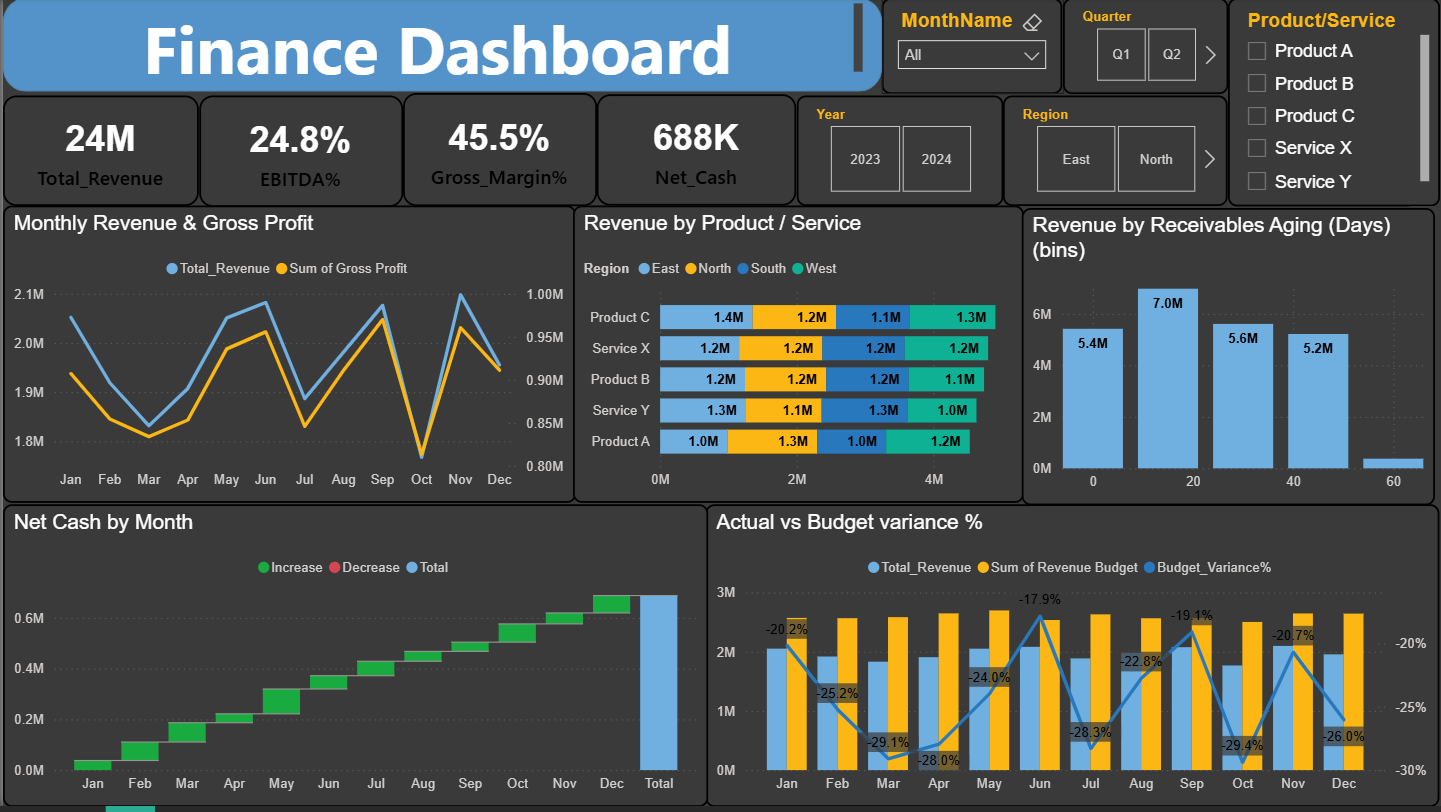

The page's visual inventory and layout, read from the dashboard file:
{"tool":"powerbi","page":{"name":"Overview","canvas":[1280,720],"ordinal":0},"visuals":[{"type":"lineChart","title":"Monthly Revenue & Gross Profit ","fields":{"Category":["Financial Data.Year","Financial Data.Quarter","Financial Data.MonthName"],"Y":["Financial Data.Total_Revenue"],"Y2":["Sum(Financial Data.Gross Profit)"]},"box":[1.2,185.3,496.9,265],"z":0},{"type":"card","fields":{"Values":["Financial Data.EBITDA%"]},"box":[174.2,87.1,181.6,99.4],"z":1000},{"type":"card","fields":{"Values":["Financial Data.Total_Revenue"]},"box":[0,87.1,174.2,98.2],"z":2000},{"type":"card","fields":{"Values":["Financial Data.Net_Cash"]},"box":[528.8,85.9,177.9,99.4],"z":3000},{"type":"lineClusteredColumnComboChart","title":"Actual vs Budget & variance %","fields":{"Category":["Financial Data.MonthName"],"Y2":["Financial Data.Budget_Variance%"],"Y":["Financial Data.Total_Revenue","Sum(Financial Data.Revenue Budget)"]},"box":[498.2,450.3,781.6,269.9],"z":4000},{"type":"card","fields":{"Values":["Financial Data.Gross_Margin%"]},"box":[355.8,84.7,173,100.6],"z":5000},{"type":"slicer","fields":{"Values":["Financial Data.Year"]},"box":[706.8,87.1,184.1,98.2],"z":6000},{"type":"slicer","fields":{"Values":["Financial Data.MonthName"]},"box":[782.8,0,160.7,85.9],"z":7000},{"type":"slicer","fields":{"Values":["Financial Data.Quarter"]},"box":[943.6,0,147.2,85.9],"z":8000},{"type":"slicer","fields":{"Values":["Financial Data.Product/Service"]},"box":[1090.8,0,189,185.3],"z":9000},{"type":"shape","box":[0,0,782.8,83.4],"z":10000},{"type":"textbox","box":[11,0,759.5,78.5],"z":11000},{"type":"barChart","title":"Revenue by Product / Service","fields":{"Category":["Financial Data.Product/Service"],"Y":["Financial Data.Total_Revenue"]},"box":[498.2,185.3,401.2,265],"z":12000},{"type":"waterfallChart","title":"Cash Flow Waterfall","fields":{"Category":["Cash Flow Type.Cash Flow Type"],"Y":["Financial Data.Cash Flow Waterfall"]},"box":[902.2,185.2,377.9,269.9],"z":14000},{"type":"slicer","fields":{"Values":["Financial Data.Region"]},"box":[889.6,84.7,200,101.8],"z":15000},{"type":"clusteredColumnChart","title":"Receivables and Payables Aging","fields":{"Category":["Aging.Aging_Bucket"],"Y":["Financial Data.Receivables_Revenue","Financial Data.Payables_Revenue"]},"box":[1.2,451.5,496.9,268.7],"z":15001}]}

Visuals, with their boxes in screenshot pixels (x1, y1, x2, y2), scaled from the page's 1280x720 canvas onto the 1441x812 screenshot:
"Monthly Revenue & Gross Profit " lineChart: x1=1 y1=209 x2=561 y2=508
card - Financial Data.EBITDA%: x1=196 y1=98 x2=401 y2=210
card - Financial Data.Total_Revenue: x1=0 y1=98 x2=196 y2=209
card - Financial Data.Net_Cash: x1=595 y1=97 x2=796 y2=209
"Actual vs Budget & variance %" lineClusteredColumnComboChart: x1=561 y1=508 x2=1440 y2=811
card - Financial Data.Gross_Margin%: x1=401 y1=96 x2=595 y2=209
slicer - Financial Data.Year: x1=796 y1=98 x2=1003 y2=209
slicer - Financial Data.MonthName: x1=881 y1=0 x2=1062 y2=97
slicer - Financial Data.Quarter: x1=1062 y1=0 x2=1228 y2=97
slicer - Financial Data.Product/Service: x1=1228 y1=0 x2=1440 y2=209
shape: x1=0 y1=0 x2=881 y2=94
textbox: x1=12 y1=0 x2=867 y2=89
"Revenue by Product / Service" barChart: x1=561 y1=209 x2=1013 y2=508
"Cash Flow Waterfall" waterfallChart: x1=1016 y1=209 x2=1440 y2=513
slicer - Financial Data.Region: x1=1001 y1=96 x2=1227 y2=210
"Receivables and Payables Aging" clusteredColumnChart: x1=1 y1=509 x2=561 y2=811
